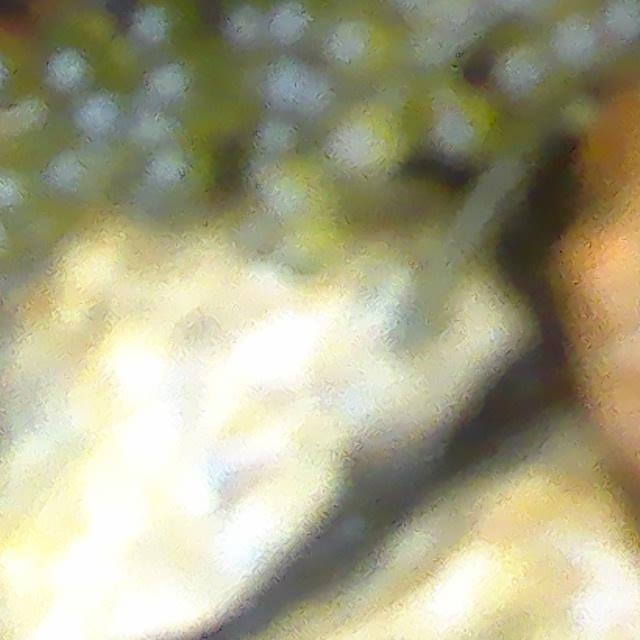SeaGrape: (330, 99, 415, 180), (326, 10, 403, 84)
